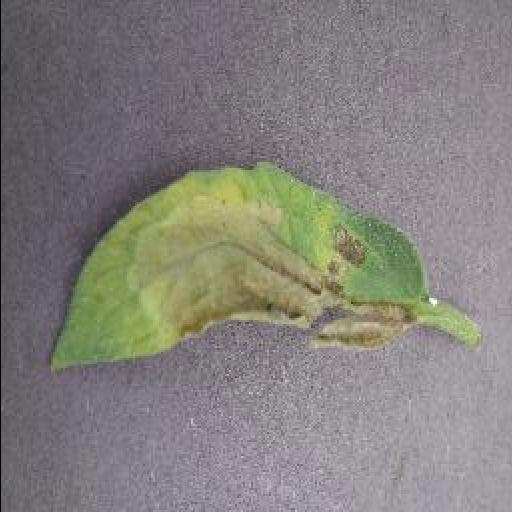disease_tomato: (46, 162, 430, 380)
